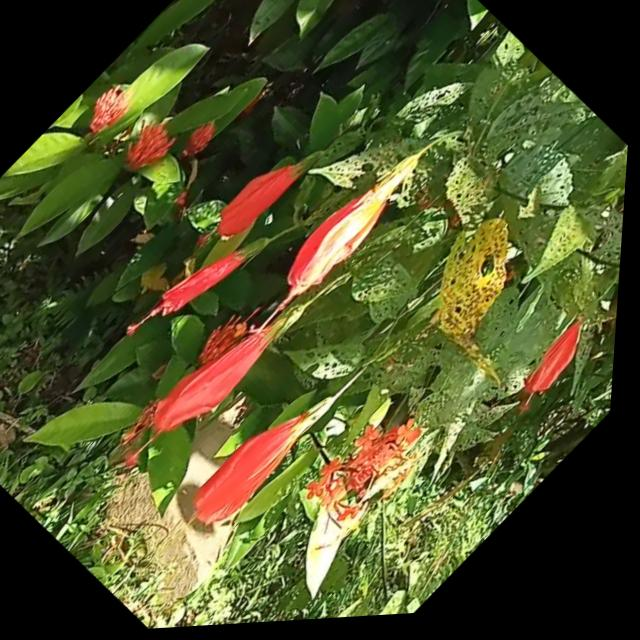Flower: (113, 279, 320, 490), (259, 139, 442, 324), (183, 375, 355, 548), (121, 209, 280, 369), (201, 130, 330, 260), (502, 317, 614, 430)
